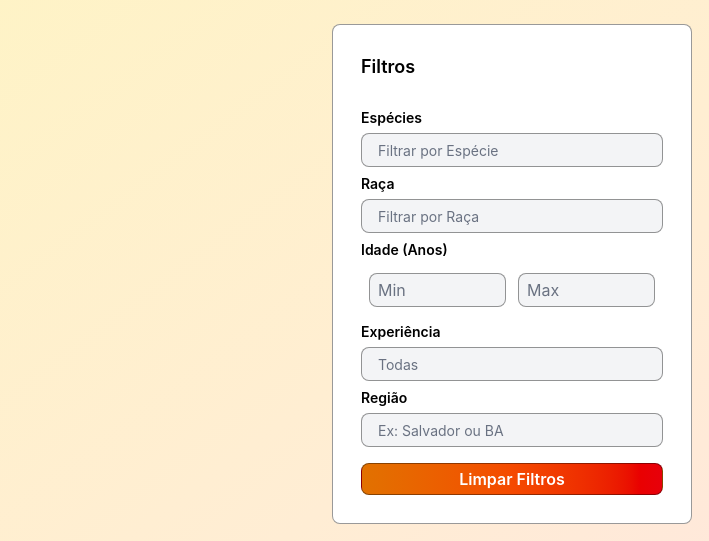
Test: clicking mated input opens mated dropdown
Click the field with placeholder "Todas" at (516, 364), box [378, 352, 654, 376]
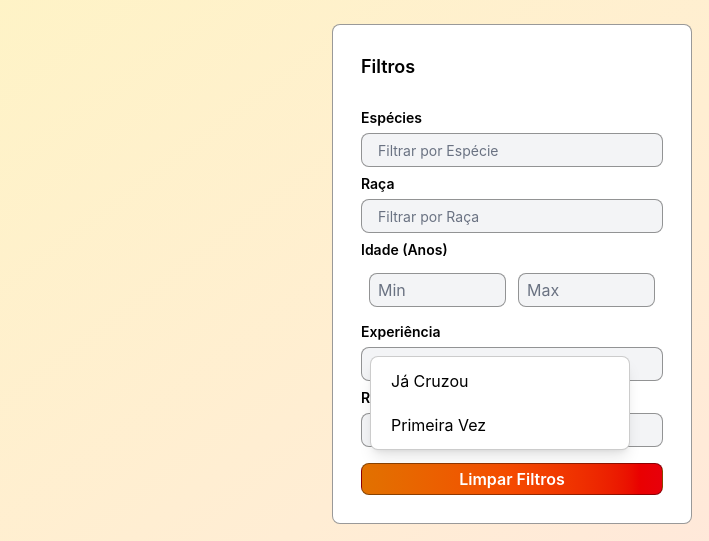
Expected: the text "Já Cruzou" is shown, [391, 371, 468, 391]
Expected: the text "Primeira Vez" is shown, [391, 415, 486, 435]
